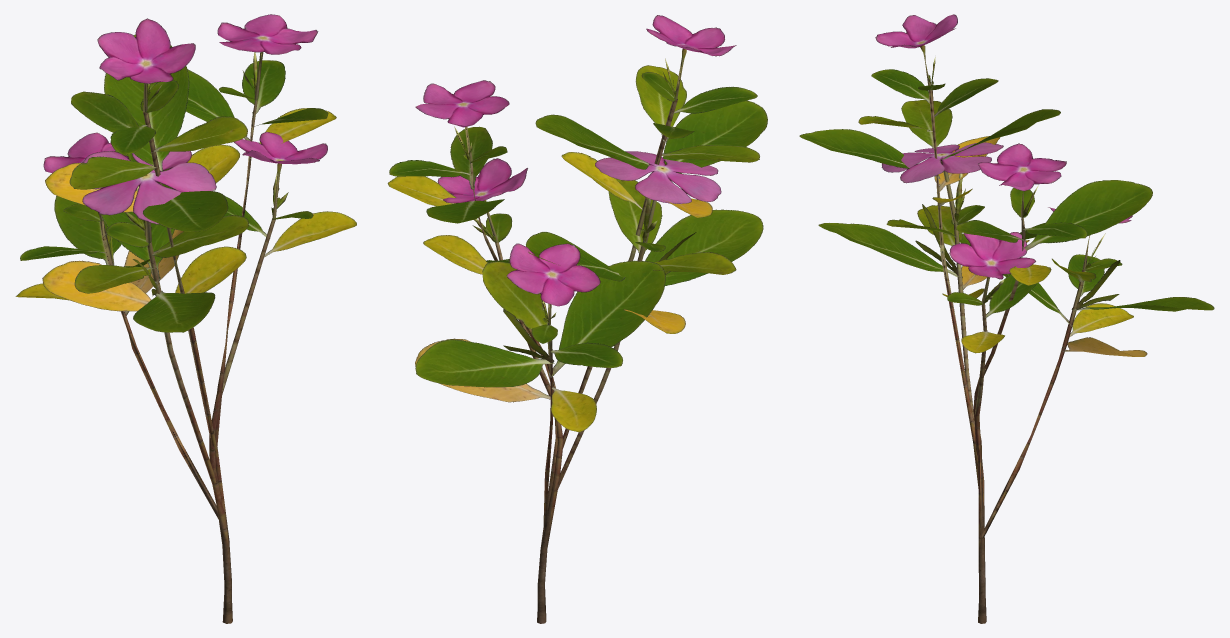
Rendered from ph-periwinkle_plant-lod.glb.
3 renders of one model, left to right at view 1: azimuth 30°, elevation 25°; view 2: azimuth 150°, elevation 25°; view 3: azimuth 270°, elevation 25°, orthographic. The views are drawn at different scales.
Visible parts, largest first — view 1: 05, 06; view 2: 05, 06; view 3: 05, 06.
Boxes of the visible parts, x1,y1,x2,y2 form: 05: (15, 14, 336, 623); 06: (42, 131, 356, 608); 05: (387, 15, 767, 623); 06: (423, 151, 763, 608); 05: (799, 14, 1214, 623); 06: (818, 142, 1045, 608).
Bounding box in the file's own units: 0.1111 × 0.2058 × 0.1409.
Materials: 1 (1 with a texture image).
